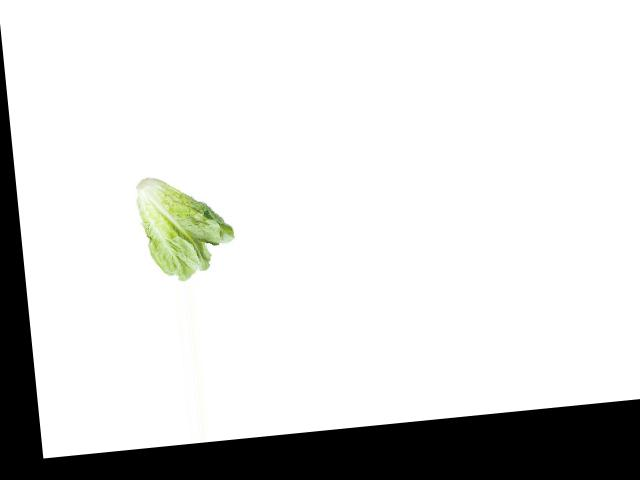lettuce: (131, 170, 241, 287)
